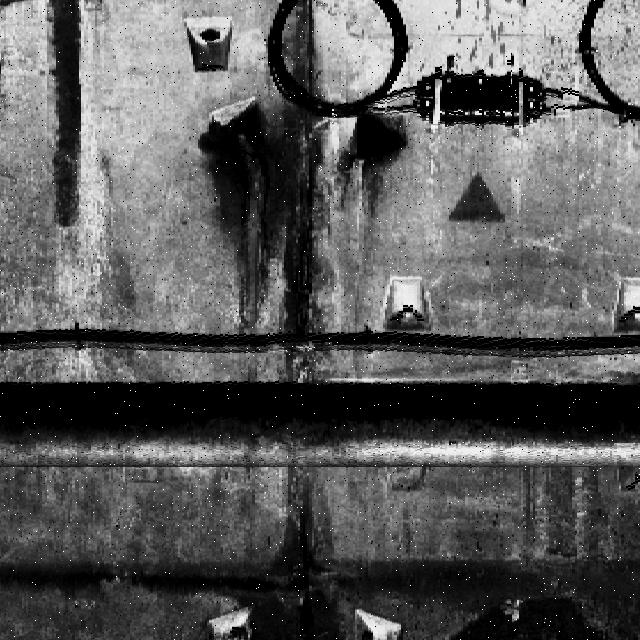leakage: (222, 443, 356, 639), (266, 0, 340, 338), (201, 133, 266, 326), (37, 0, 92, 228), (7, 550, 217, 605)
